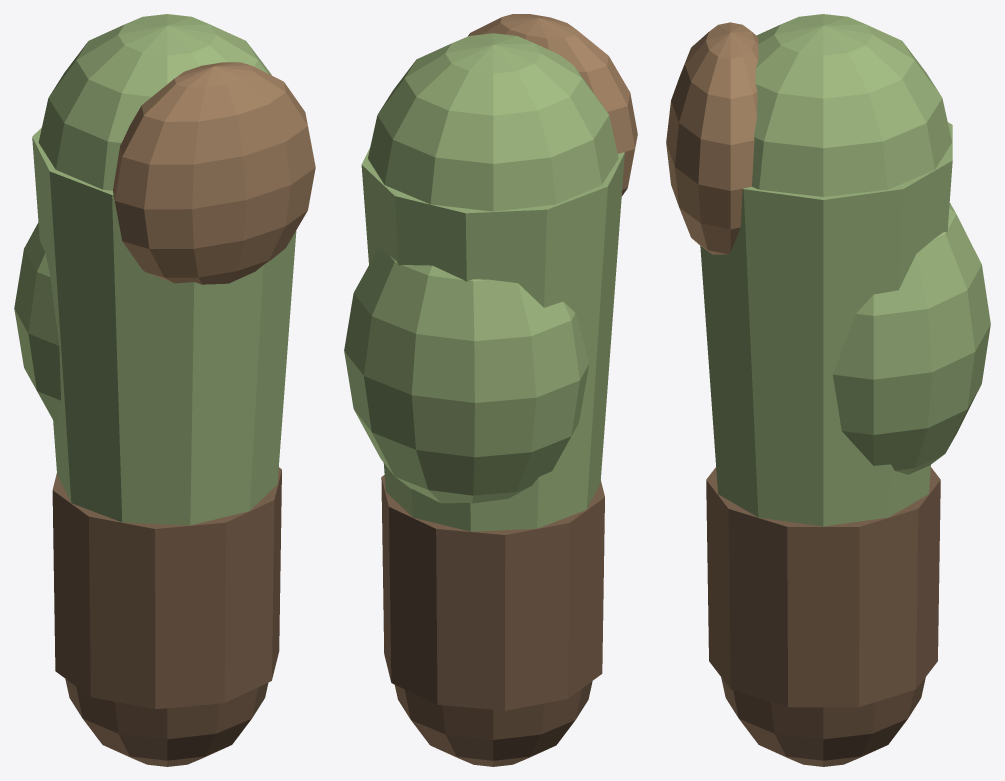
File: SM_Orc_Shin_L.fbx
3 views of the same model, side by side, from view 1: azimuth 30°, elevation 25°; view 2: azimuth 150°, elevation 25°; view 3: azimuth 270°, elevation 25° (orthographic). The views are drawn at different scales.
Parts seen in each view (by area): view 1: SM_Orc_Shin_L; view 2: SM_Orc_Shin_L; view 3: SM_Orc_Shin_L.
Part boxes in pixels (x1,y1,x2,y2): SM_Orc_Shin_L: [14, 14, 315, 766]; SM_Orc_Shin_L: [344, 14, 637, 766]; SM_Orc_Shin_L: [666, 14, 990, 766].
Bounding box in the file's own units: 0.19 × 0.564 × 0.227.
